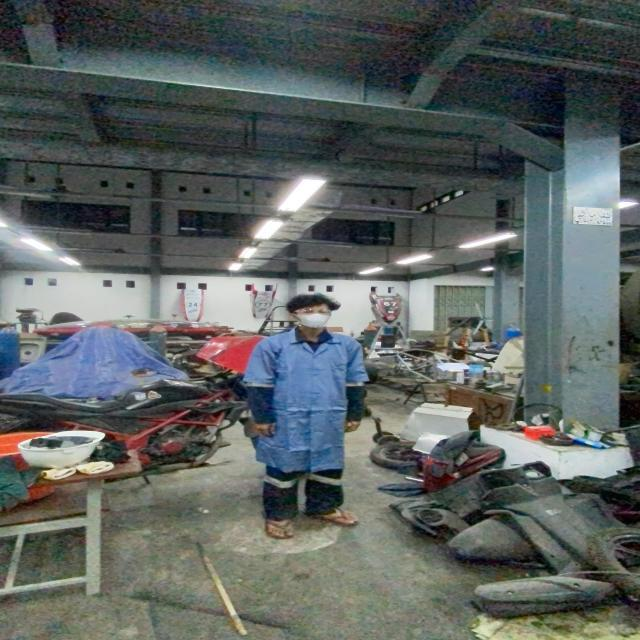glasses: (285, 305, 335, 316)
